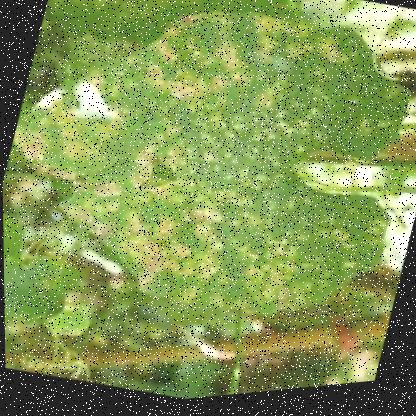DownyMildew: (117, 0, 397, 318), (53, 56, 286, 278)
